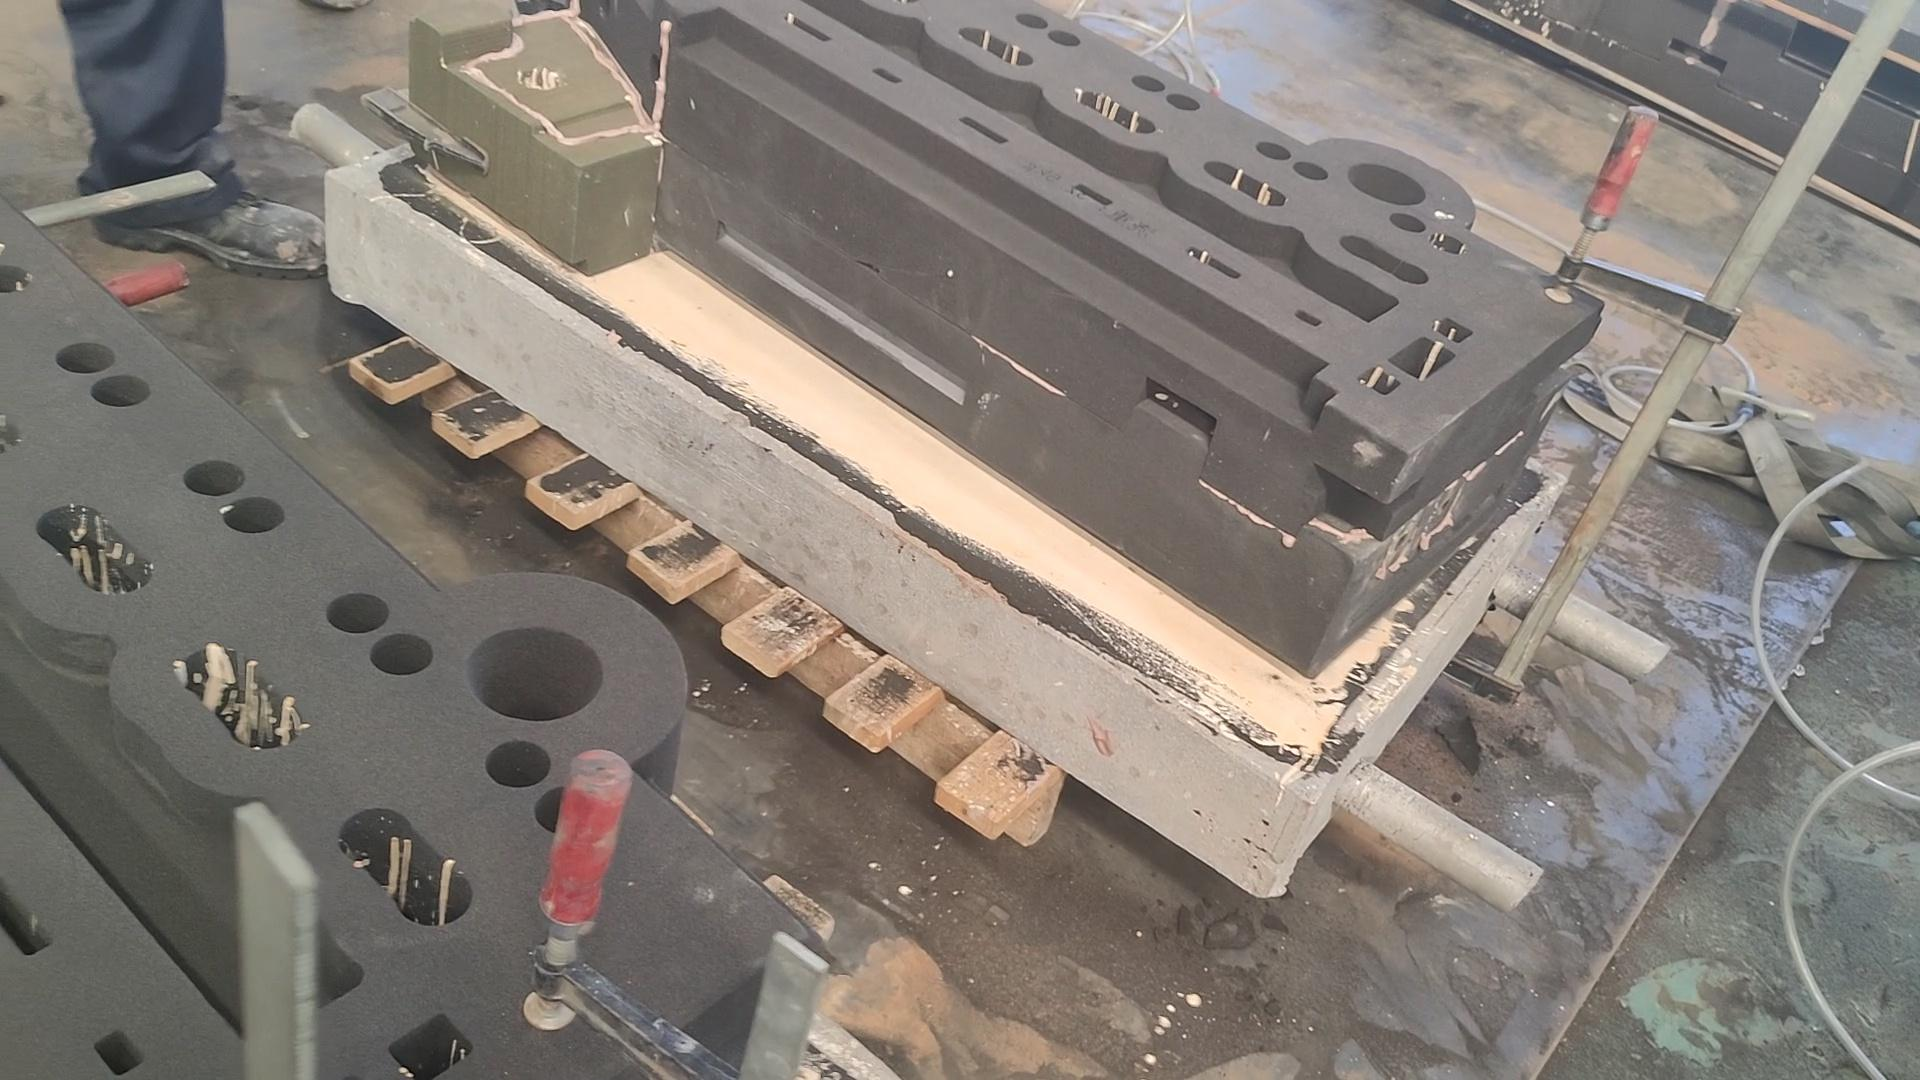pouring hole: (462, 625, 604, 723), (1345, 161, 1425, 208)
